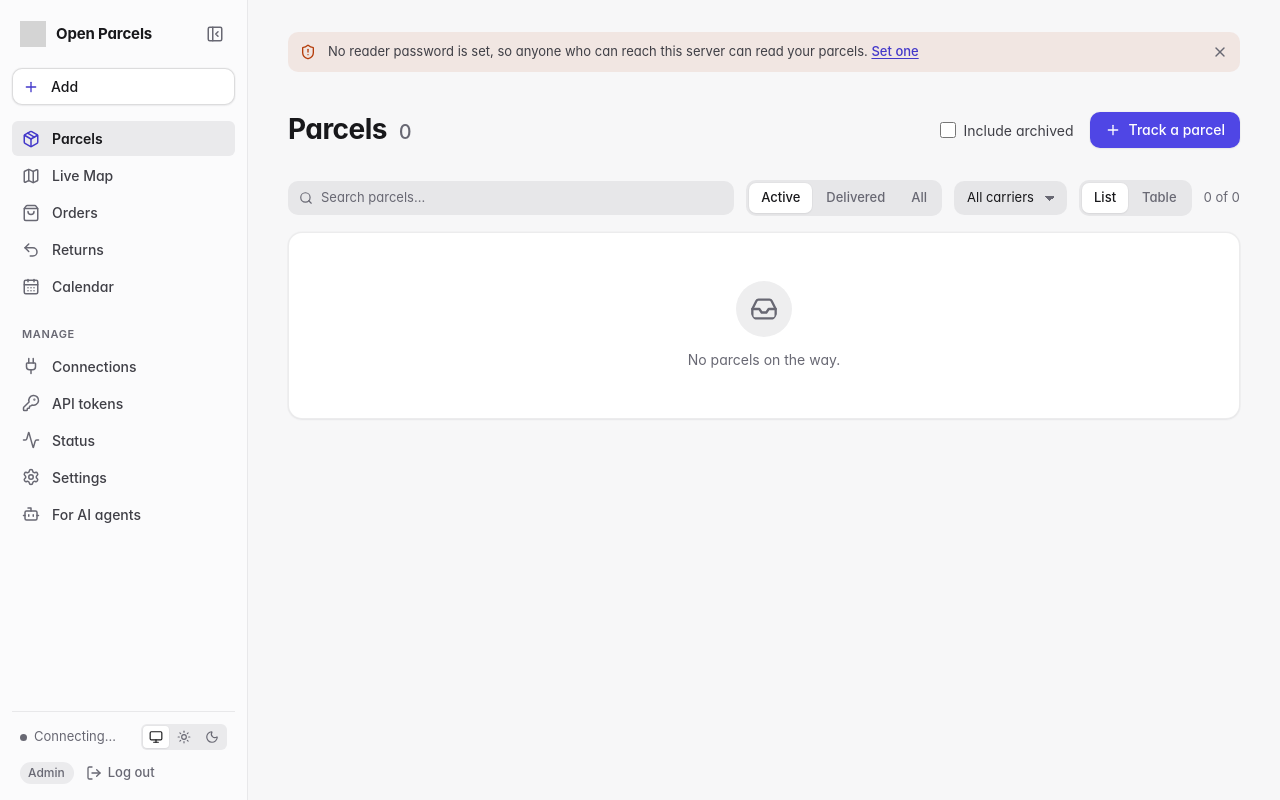
Test case: first start and login › tells the admin once that reading is open, until dismissed
The width and height of the screenshot is (1280, 800).
Expected: the text "No reader password is set" is shown, [328,43,868,59]
Click the button named "Dismiss" at x=1220, y=52, box [1206,38,1234,66]
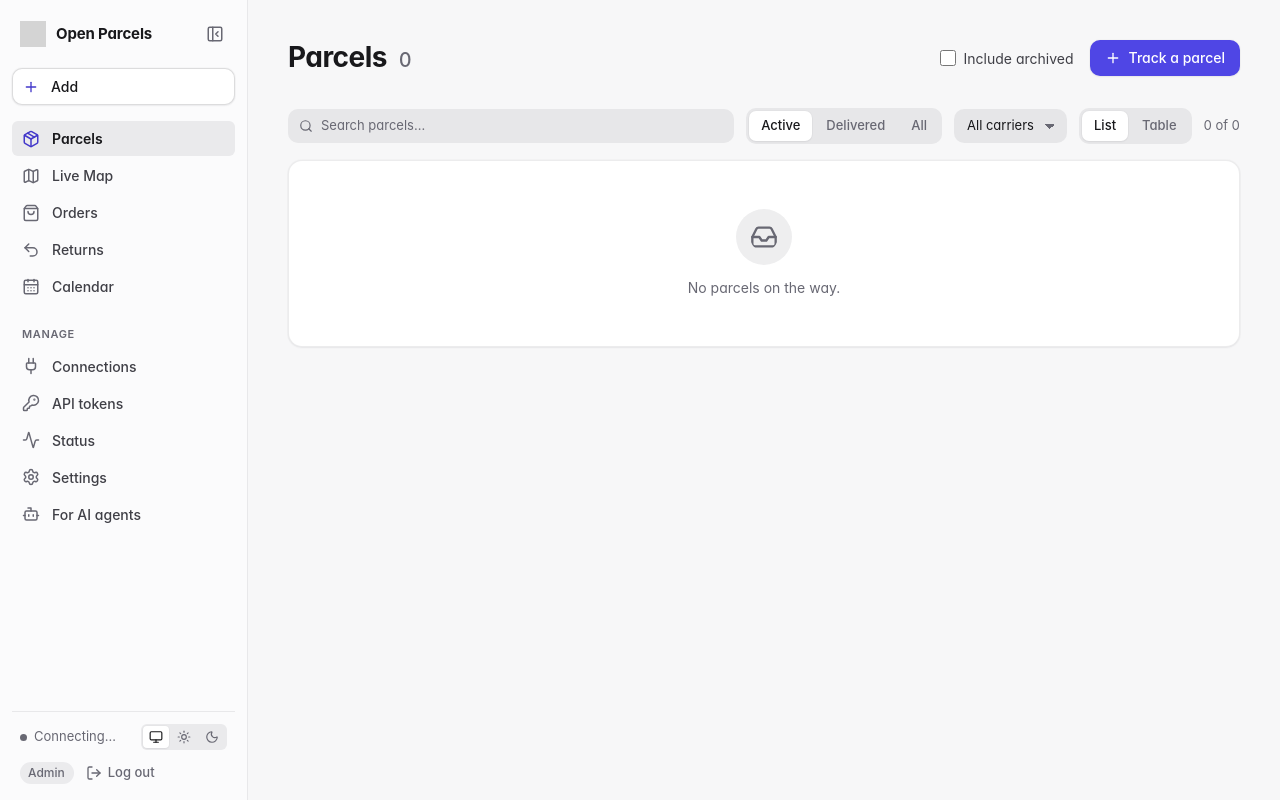
Expected: the text "No reader password is set" is gone
